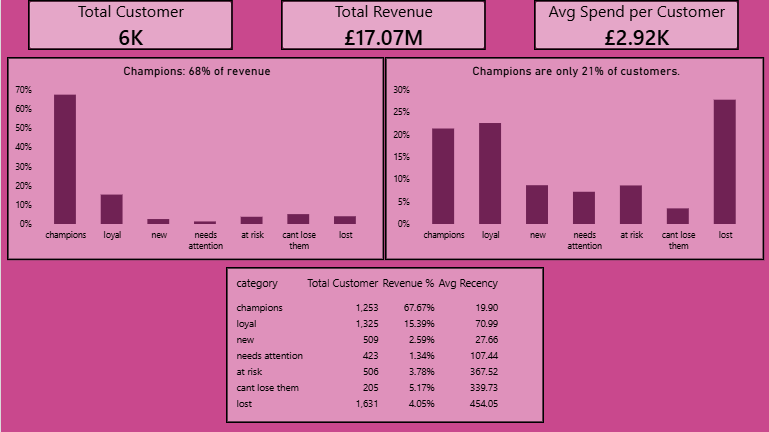

The dashboard page shown, as its layout file describes it:
{"tool":"powerbi","page":{"name":"Customer Overview","canvas":[1920,1080],"ordinal":0},"visuals":[{"type":"cardVisual","fields":{"Data":["rfm_category.total customer"]},"box":[67.5,0,512.5,125],"z":0},{"type":"columnChart","title":"Champions: 68% of revenue","fields":{"Y":["rfm_category.Total Revenue"],"Category":["segments.Category"]},"box":[15,142.5,942.5,507.5],"z":1000},{"type":"tableEx","fields":{"Values":["segments.category","rfm_category.total customer","rfm_category.total revenue","Avg(rfm_category.recency)"]},"box":[562.5,667.5,795,390],"z":2000},{"type":"cardVisual","fields":{"Data":["rfm_category.total revenue"]},"box":[700,0,512.5,125],"z":3000},{"type":"cardVisual","fields":{"Data":["rfm_category.Avg Spend per Customer"]},"box":[1332.5,0,512.5,125],"z":4000},{"type":"columnChart","title":"Champions are only 21% of customers.","fields":{"Y":["rfm_category.Total Customer"],"Category":["segments.category"]},"box":[960,142.5,947.5,507.5],"z":5000}]}

Visuals, with their boxes in screenshot pixels (x1, y1, x2, y2), scaled from the page's 1920x1080 canvas onto the 769x432 screenshot:
cardVisual - rfm_category.total customer: pyautogui.locateOnScreen(27, 0, 232, 50)
"Champions: 68% of revenue" columnChart: pyautogui.locateOnScreen(6, 57, 383, 260)
tableEx - segments.category x rfm_category.total customer: pyautogui.locateOnScreen(225, 267, 544, 423)
cardVisual - rfm_category.total revenue: pyautogui.locateOnScreen(280, 0, 486, 50)
cardVisual - rfm_category.Avg Spend per Customer: pyautogui.locateOnScreen(534, 0, 739, 50)
"Champions are only 21% of customers." columnChart: pyautogui.locateOnScreen(384, 57, 764, 260)
